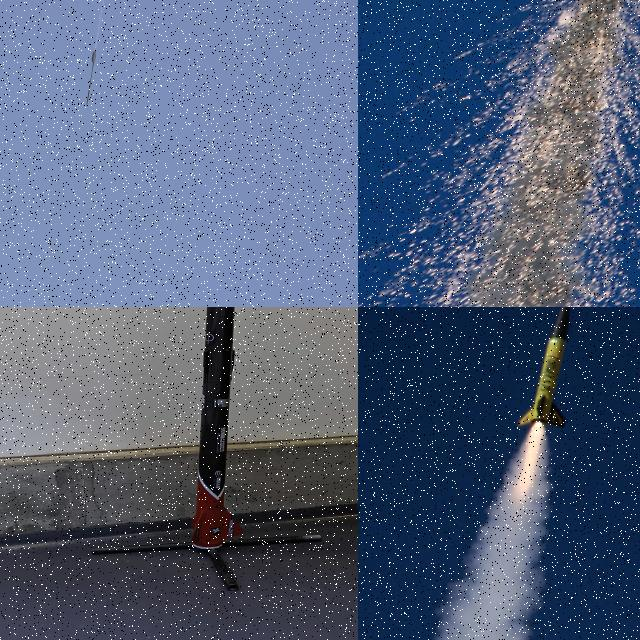Rocket: (191, 307, 243, 549), (516, 307, 574, 430), (86, 46, 97, 107)
